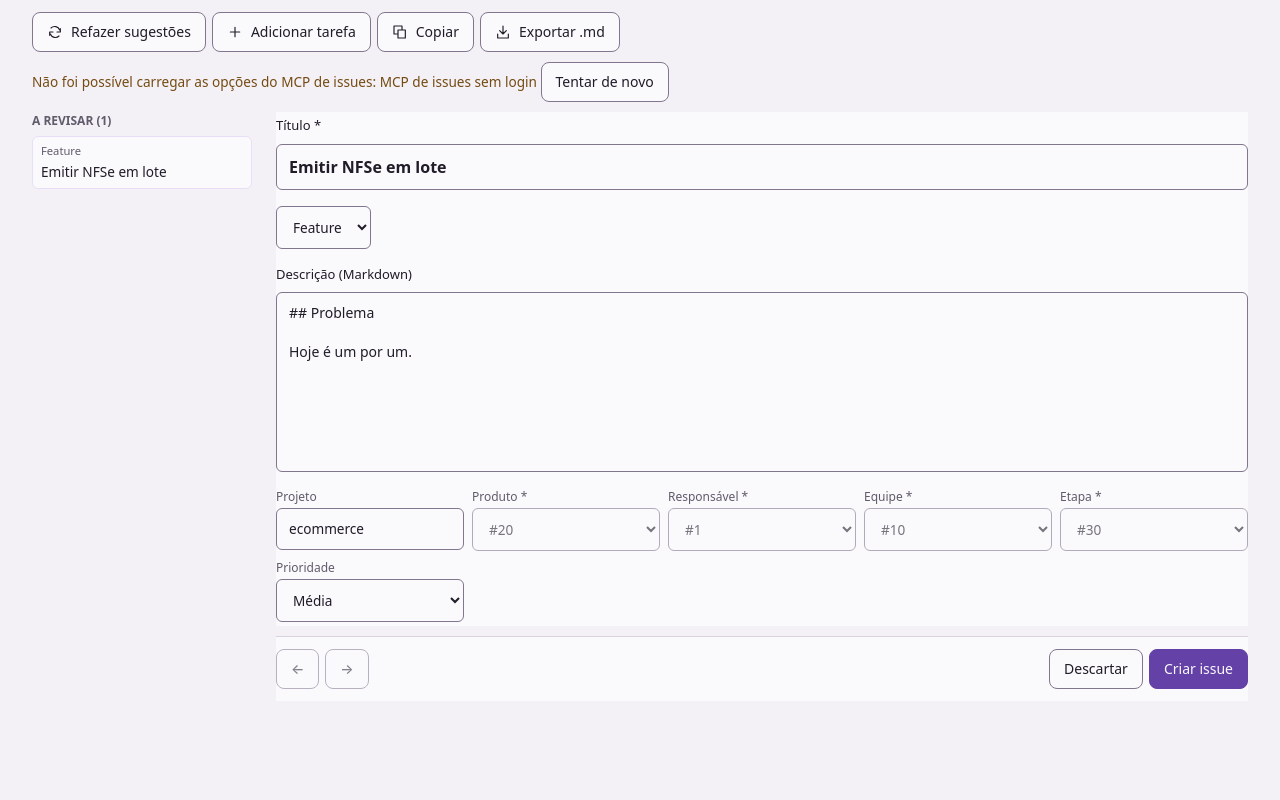
Test: TasksTab › erro das opções do MCP de issues aparece como aviso com 'Tentar de novo' (issueOptions(true))
The width and height of the screenshot is (1280, 800).
Click the button "Tentar de novo" at (605, 82), box [540,62,669,102]
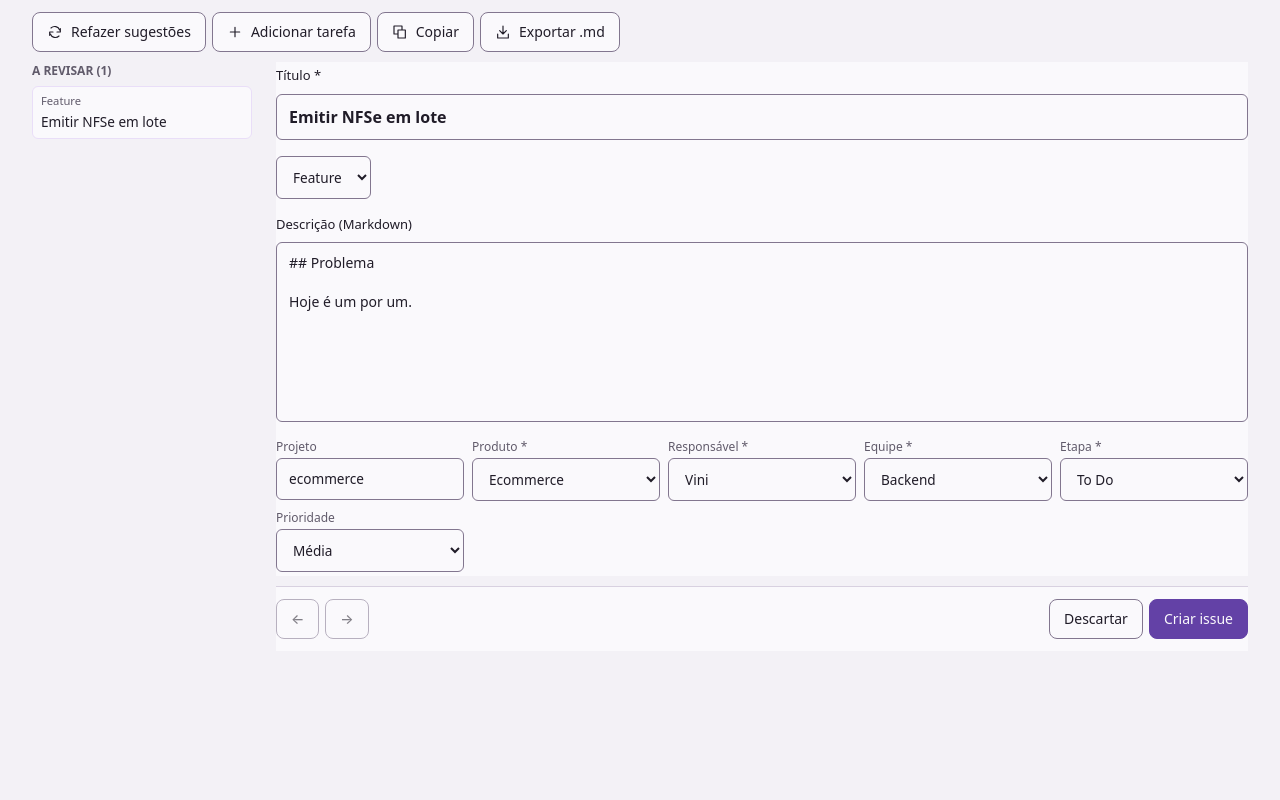
Check: the text "MCP de issues sem login" is gone
